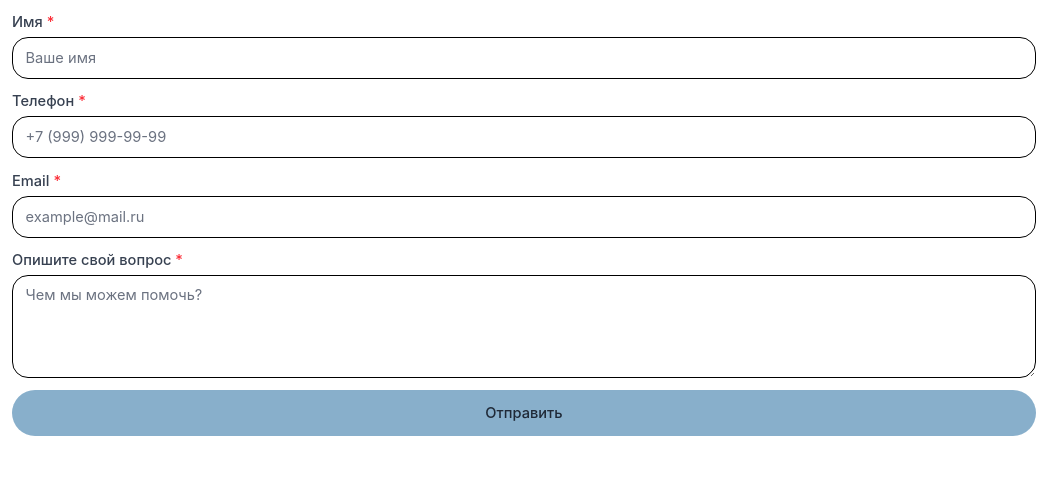
lead forms, sprint theme: false › rejects generated contact messages before submission
The image size is (1048, 478).
Type "Анна Иванова" into the field with id "contact-help-name" at point(524, 58), box [12,37,1036,79]
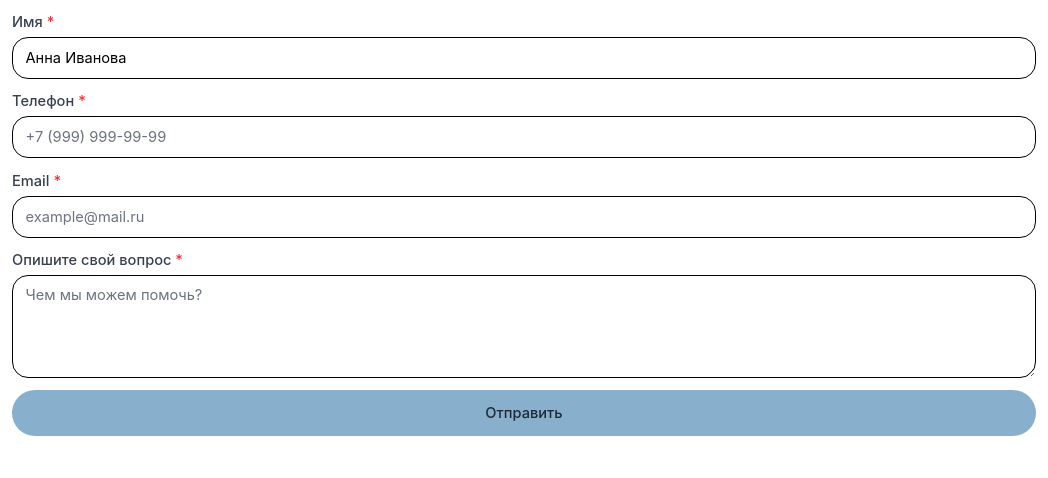
Type "anna@gmail.com" into the field with id "contact-help-email" at point(524, 217), box [12,196,1036,238]
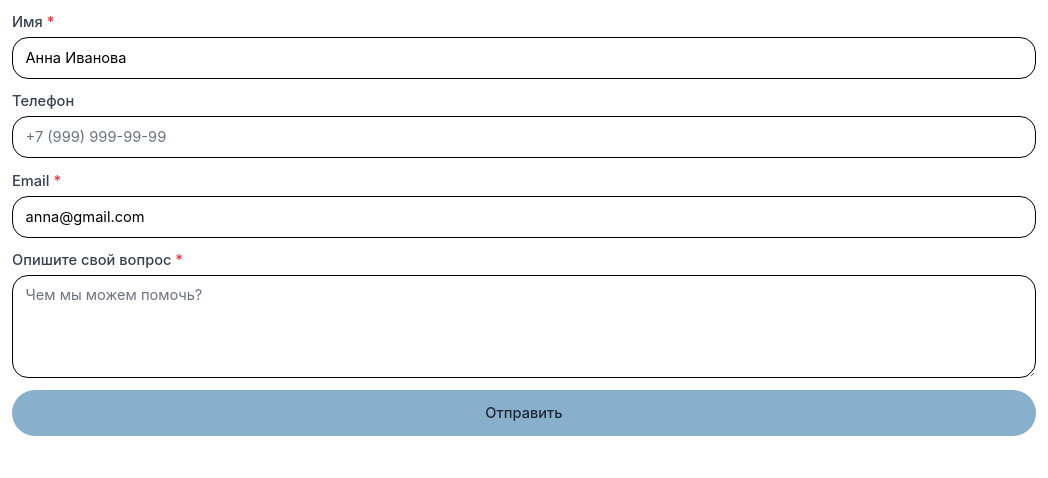
Type "PiCaIKQUXcnnpGNFYKQWOlZ" into the text box with id "contact-help-message" at point(524, 326), box [12,275,1036,378]
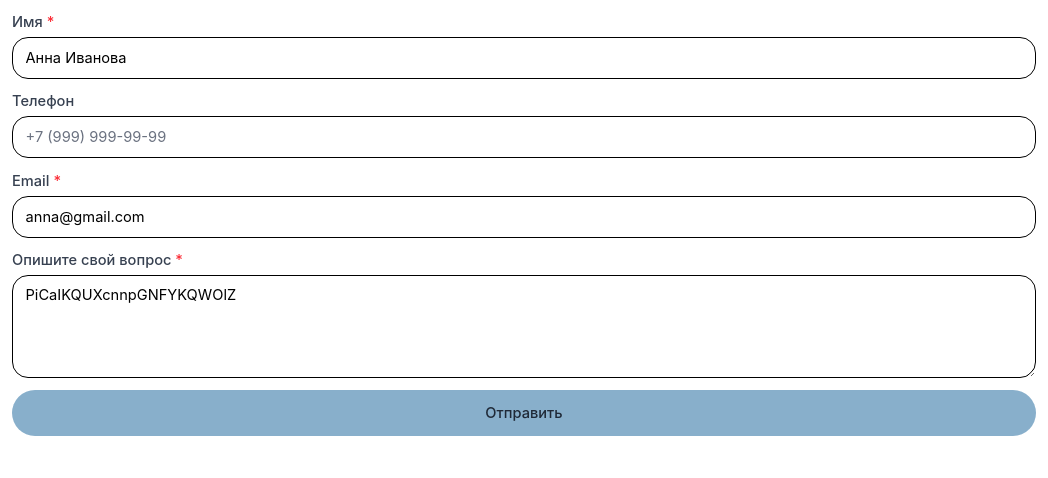
Submit the form
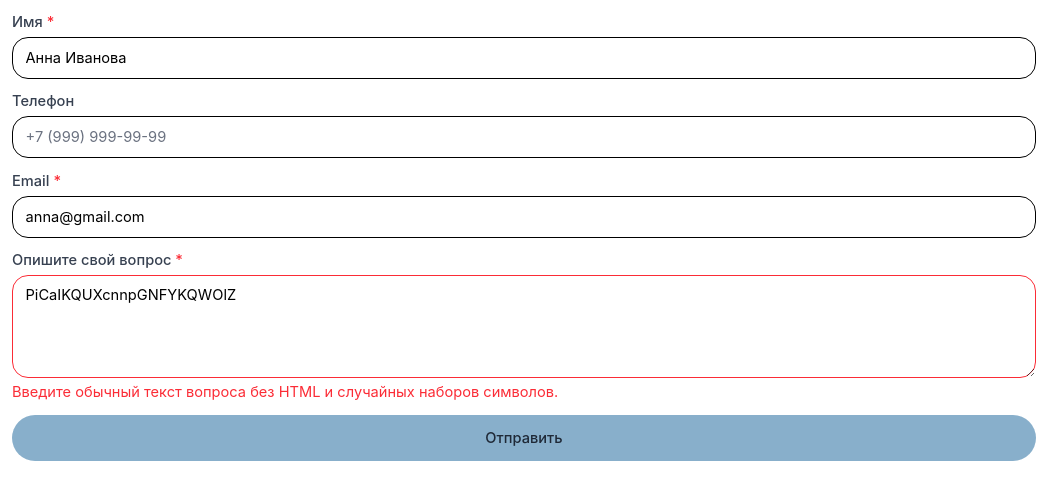
Check: the message shows "текст", box [12,383,558,401]
